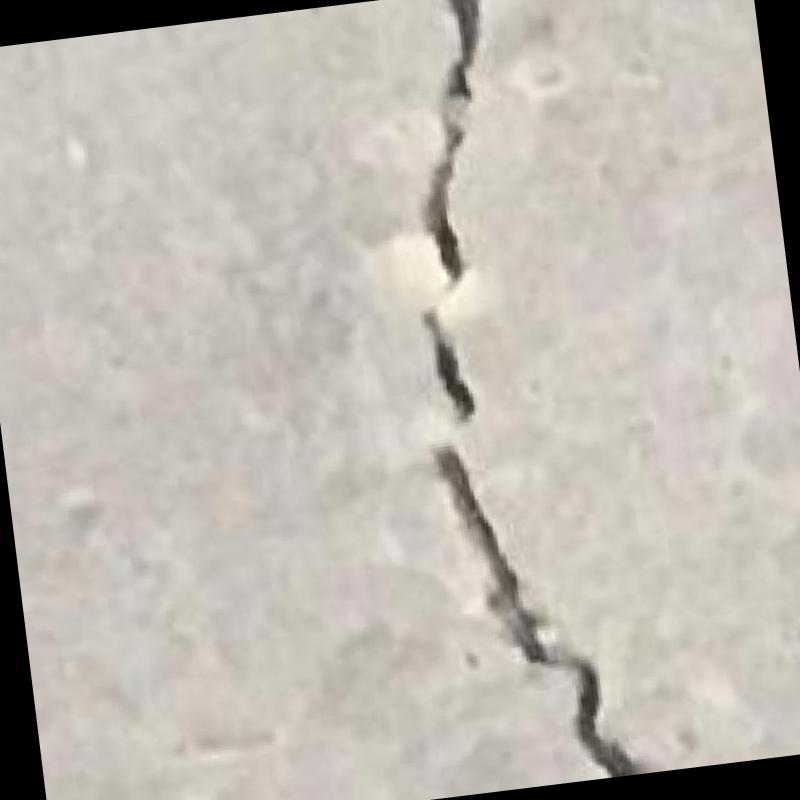pothole: (421, 0, 646, 776)
